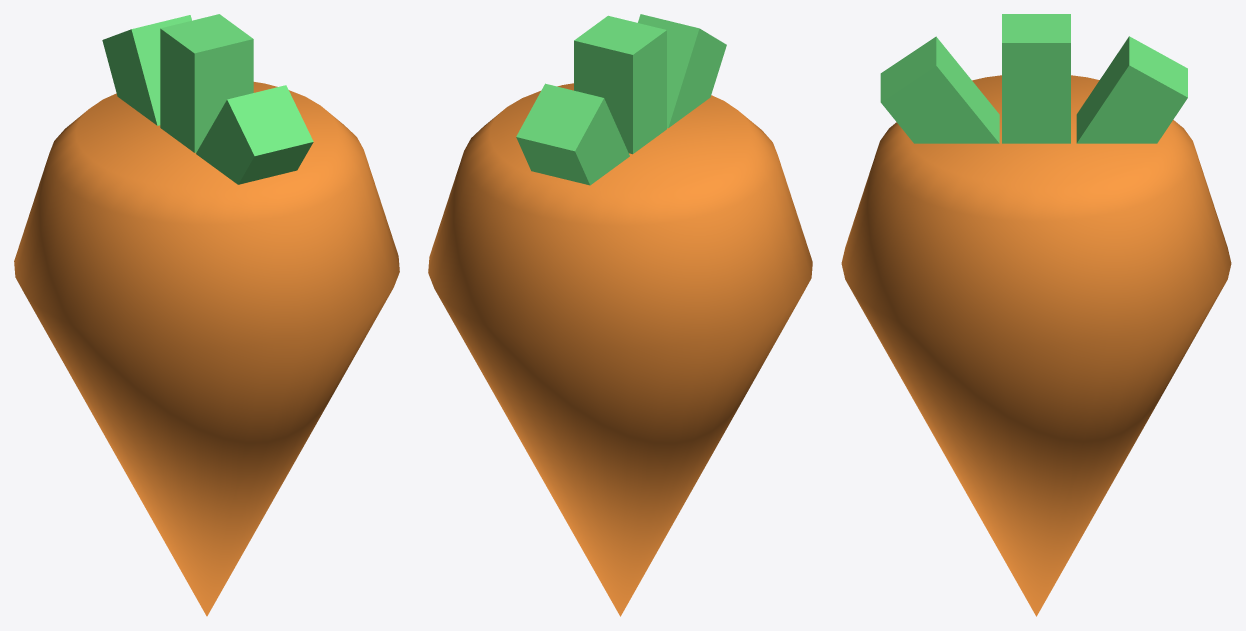
File: Carrot.fbx_Collection.fbx
3 renders of one model, left to right at view 1: azimuth 30°, elevation 25°; view 2: azimuth 150°, elevation 25°; view 3: azimuth 270°, elevation 25°, orthographic.
Parts seen in each view (by area): view 1: Carrot; view 2: Carrot; view 3: Carrot.
Boxes of the visible parts, <box> form: Carrot: <box>14,14,399,616</box>; Carrot: <box>428,14,812,616</box>; Carrot: <box>841,14,1231,616</box>.
Size of the model in its own units: 119 by 119 by 199.
